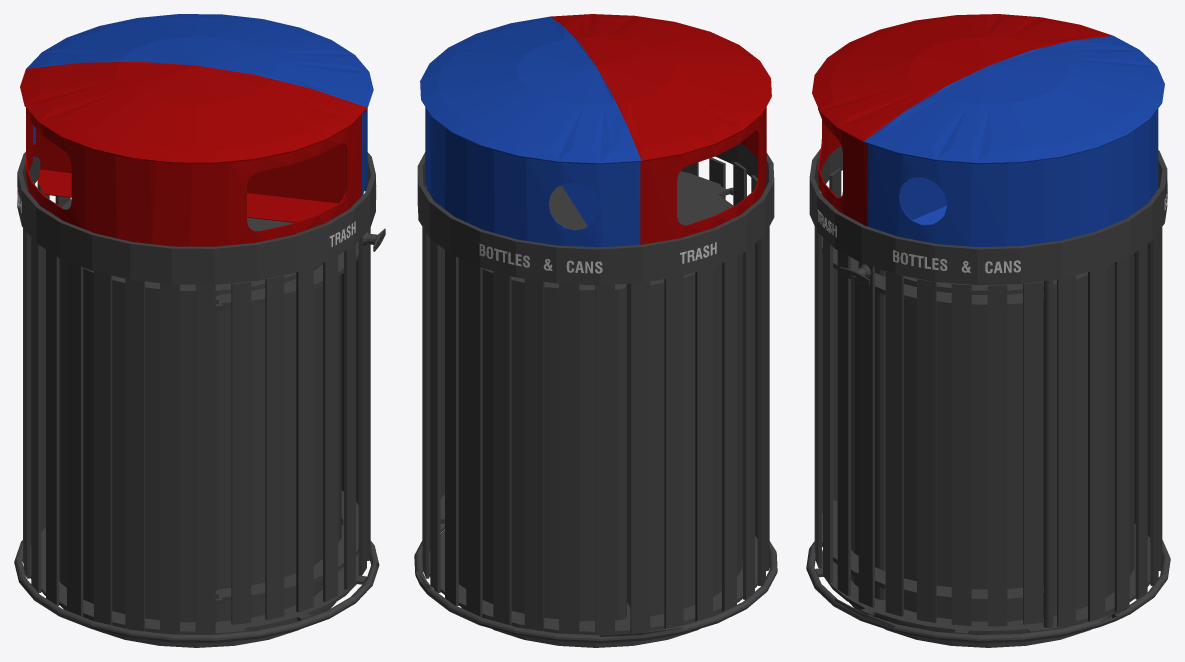
The picture shows the model from 3 angles, left to right: view 1: azimuth 30°, elevation 25°; view 2: azimuth 150°, elevation 25°; view 3: azimuth 270°, elevation 25°; orthographic projection.
Visible parts, largest first — view 1: mesh37.003_mesh37-geometry, mesh183.002_mesh183-geometry, mesh184.002_mesh184-geometry, mesh175.002_mesh175-geometry, mesh16.002_mesh16-geometry, mesh1.020_mesh1-geometry, mesh185.002_mesh185-geometry, mesh3.015_mesh3-geometry, mesh1.030_mesh1-geometry, mesh1.038_mesh1-geometry, mesh3.021_mesh3-geometry, mesh1.037_mesh1-geometry (+20 smaller); view 2: mesh37.004_mesh37-geometry, mesh175.002_mesh175-geometry, mesh183.002_mesh183-geometry, mesh37.003_mesh37-geometry, mesh176.002_mesh176-geometry, mesh16.002_mesh16-geometry, mesh1.033_mesh1-geometry, mesh1.031_mesh1-geometry, mesh1.032_mesh1-geometry, mesh1.035_mesh1-geometry, mesh1.029_mesh1-geometry, mesh1.021_mesh1-geometry (+18 smaller); view 3: mesh37.004_mesh37-geometry, mesh175.002_mesh175-geometry, mesh176.002_mesh176-geometry, mesh183.002_mesh183-geometry, mesh16.002_mesh16-geometry, mesh3.017_mesh3-geometry, mesh3.018_mesh3-geometry, mesh3.014_mesh3-geometry, mesh3.019_mesh3-geometry, mesh1.028_mesh1-geometry, mesh3.013_mesh3-geometry, mesh1.026_mesh1-geometry (+21 smaller).
Boxes of the visible parts, bbox=[...] form: mesh37.003_mesh37-geometry: bbox=[59, 258, 322, 622]; mesh183.002_mesh183-geometry: bbox=[20, 61, 367, 163]; mesh184.002_mesh184-geometry: bbox=[26, 108, 361, 246]; mesh175.002_mesh175-geometry: bbox=[26, 14, 373, 107]; mesh16.002_mesh16-geometry: bbox=[17, 151, 375, 284]; mesh1.020_mesh1-geometry: bbox=[195, 284, 215, 634]; mesh185.002_mesh185-geometry: bbox=[32, 128, 345, 222]; mesh3.015_mesh3-geometry: bbox=[231, 281, 251, 624]; mesh1.030_mesh1-geometry: bbox=[160, 283, 179, 634]; mesh1.038_mesh1-geometry: bbox=[125, 279, 144, 631]; mesh3.021_mesh3-geometry: bbox=[265, 275, 284, 619]; mesh1.037_mesh1-geometry: bbox=[94, 271, 112, 625]; mesh37.004_mesh37-geometry: bbox=[458, 185, 626, 621]; mesh175.002_mesh175-geometry: bbox=[420, 16, 641, 164]; mesh183.002_mesh183-geometry: bbox=[550, 14, 771, 161]; mesh37.003_mesh37-geometry: bbox=[626, 178, 742, 616]; mesh176.002_mesh176-geometry: bbox=[425, 107, 640, 247]; mesh16.002_mesh16-geometry: bbox=[417, 143, 774, 285]; mesh1.033_mesh1-geometry: bbox=[630, 281, 650, 634]; mesh1.031_mesh1-geometry: bbox=[559, 283, 579, 634]; mesh1.032_mesh1-geometry: bbox=[524, 279, 544, 631]; mesh1.035_mesh1-geometry: bbox=[595, 284, 614, 636]; mesh1.029_mesh1-geometry: bbox=[664, 276, 683, 630]; mesh1.021_mesh1-geometry: bbox=[493, 271, 511, 625]; mesh37.004_mesh37-geometry: bbox=[904, 253, 1134, 621]; mesh175.002_mesh175-geometry: bbox=[863, 35, 1164, 164]; mesh176.002_mesh176-geometry: bbox=[867, 109, 1158, 247]; mesh183.002_mesh183-geometry: bbox=[812, 14, 1112, 142]; mesh16.002_mesh16-geometry: bbox=[809, 145, 1167, 285]; mesh3.017_mesh3-geometry: bbox=[987, 284, 1007, 626]; mesh3.018_mesh3-geometry: bbox=[951, 283, 971, 625]; mesh3.014_mesh3-geometry: bbox=[1023, 281, 1042, 624]; mesh3.019_mesh3-geometry: bbox=[917, 278, 936, 622]; mesh1.028_mesh1-geometry: bbox=[1057, 275, 1075, 628]; mesh3.013_mesh3-geometry: bbox=[885, 271, 903, 616]; mesh1.026_mesh1-geometry: bbox=[1088, 267, 1105, 621].
Size of the model in its own units: 0.472 by 0.7446 by 0.472.
